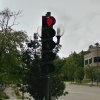Traffic light: (29, 4, 61, 75)
